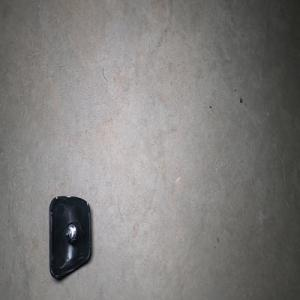LuggagePart: (48, 194, 92, 281)
